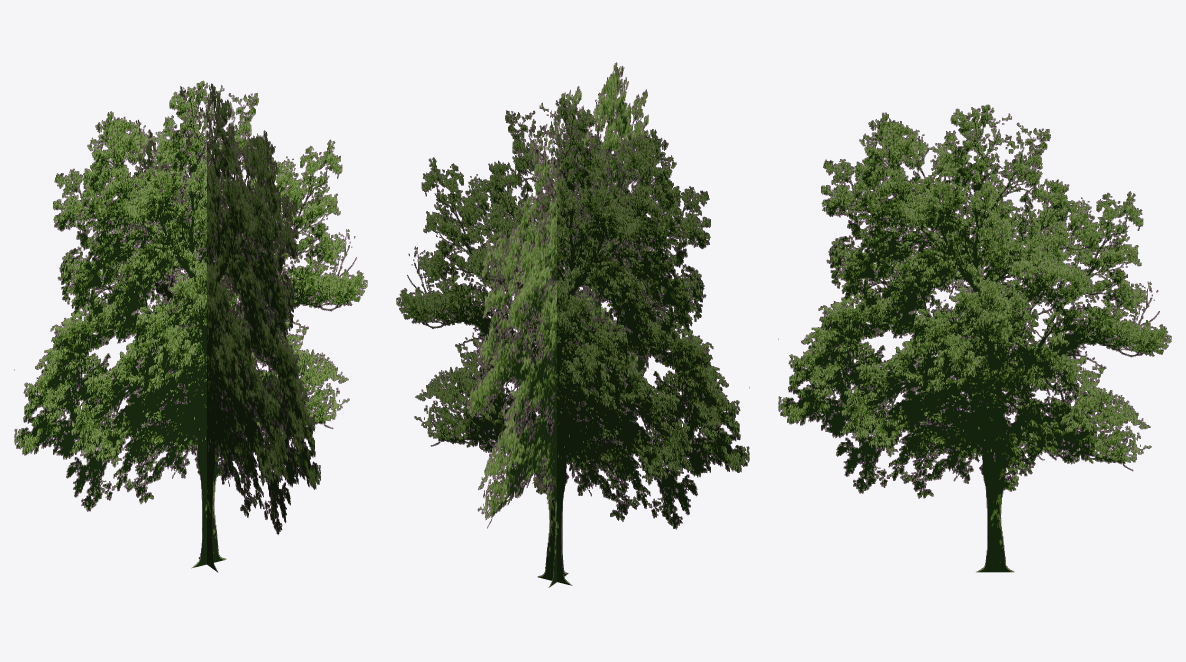
The model's file is arbre-210321.glb.
The picture shows the model from 3 angles, left to right: view 1: azimuth 30°, elevation 25°; view 2: azimuth 150°, elevation 25°; view 3: azimuth 270°, elevation 25°; orthographic projection. The views are drawn at different scales.
Parts seen in each view (by area): view 1: Plane, Plane.001; view 2: Plane, Plane.001; view 3: Plane.001.
Part boxes in pixels (bbox=[...]): Plane: bbox=[14, 80, 367, 568]; Plane.001: bbox=[124, 83, 320, 572]; Plane: bbox=[396, 98, 749, 585]; Plane.001: bbox=[467, 62, 665, 587]; Plane.001: bbox=[778, 104, 1171, 572].
Size of the model in its own units: 7.63 by 10 by 7.63.
1 material, 1 textured.
